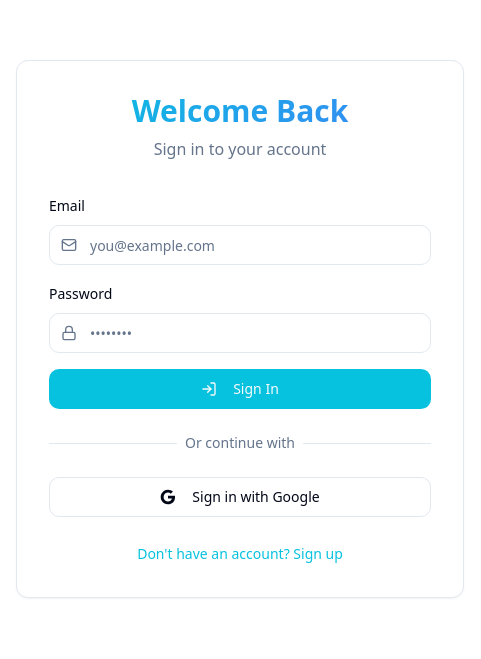
Test: Frontend UI Tests › Case 10: Toggle Sign Up Mode
Expected: the heading "Welcome Back" is shown, [49, 93, 431, 129]
Note: Click it
Click the button "Don't have an account? Sign up".
click(240, 554)  # box [137, 544, 343, 564]
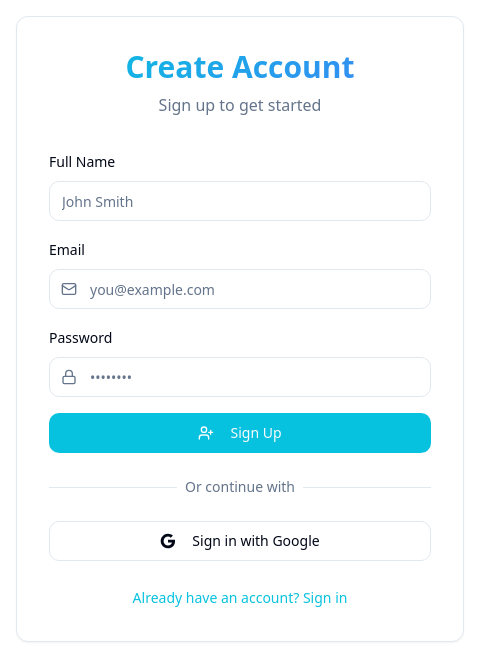
Result: the heading "Create Account" is shown at [49, 49, 431, 85]
Result: the field labelled "Full Name" is shown at [49, 181, 431, 221]
